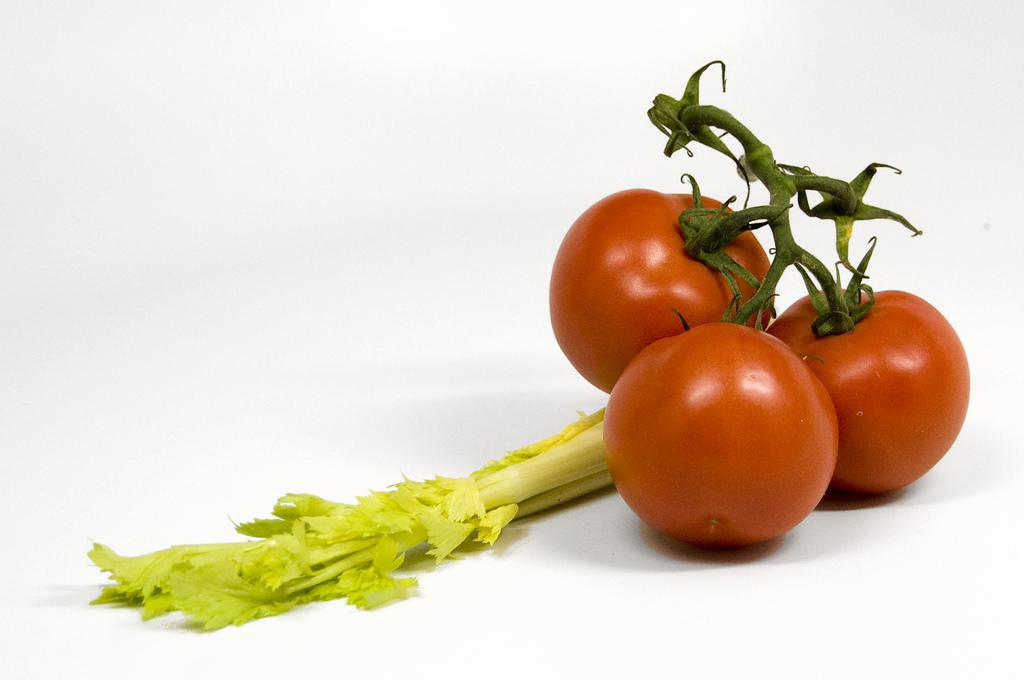Tomato: (547, 176, 784, 397), (611, 324, 839, 550), (778, 280, 970, 511)
